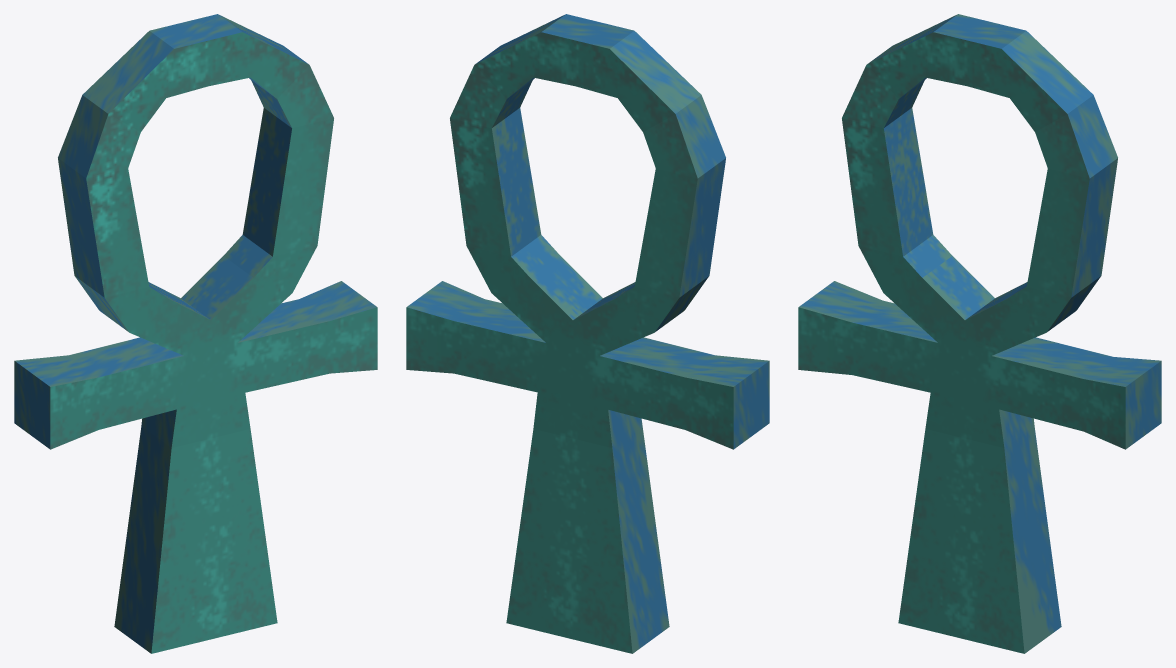
The model's file is SM_ankh.fbx.
3 renders of one model, left to right at view 1: azimuth 30°, elevation 25°; view 2: azimuth 150°, elevation 25°; view 3: azimuth 330°, elevation 25°, orthographic.
Visible parts, largest first — view 1: ankh; view 2: ankh; view 3: ankh.
Part boxes in pixels (x1,y1,x2,y2): ankh: (14, 14, 377, 653); ankh: (406, 14, 769, 653); ankh: (798, 14, 1161, 653).
Size of the model in its own units: 6.09 by 10.56 by 1.19.
